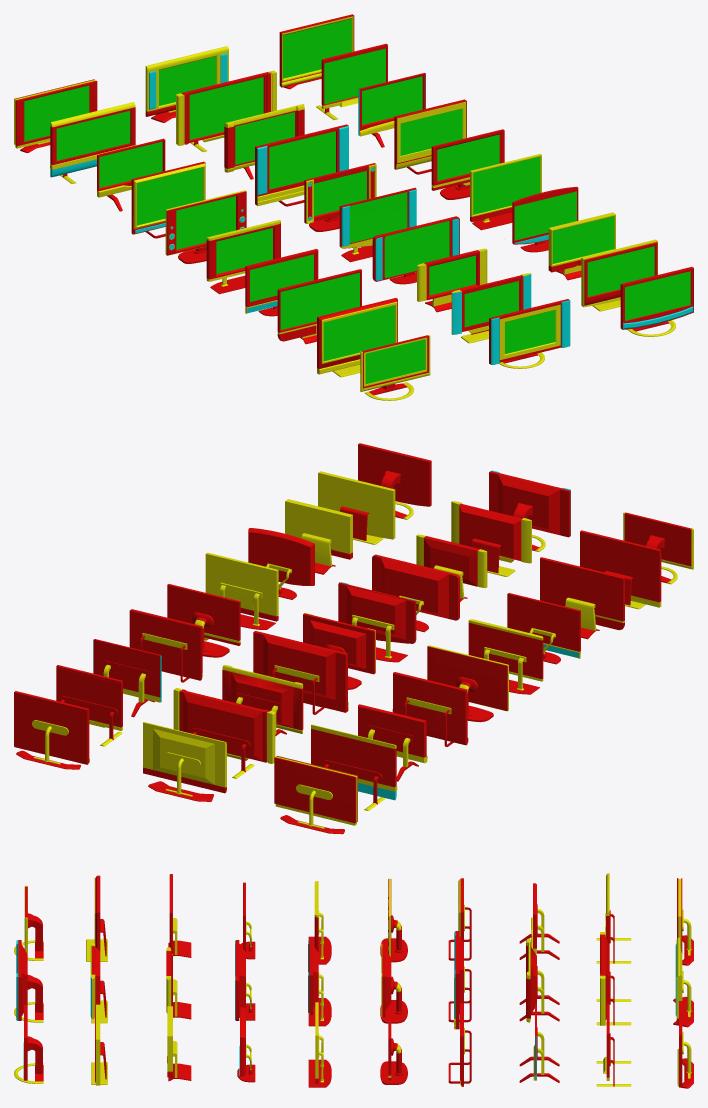
The model's file is televisions_grp.fbx.
The picture shows the model from 3 angles, top to bottom: view 1: azimuth 30°, elevation 25°; view 2: azimuth 150°, elevation 25°; view 3: azimuth 270°, elevation 25°; orthographic projection. The views are drawn at different scales.
Visible parts, largest first — view 1: television_17, television_19, television_9, television_2, television_11, television_3, television_14, television_30, television_21, television_7, television_20, television_6 (+18 smaller); view 2: television_17, television_19, television_20, television_10, television_30, television_3, television_2, television_14, television_9, television_7, television_11, television_27 (+35 smaller); view 3: television_17, television_11, television_19, television_18, television_14, television_stand_26, television_stand_25, television_12, television_15, television_16, television_stand_16, television_stand_6 (+28 smaller).
Part boxes in pixels (bbox=[...]): television_17: bbox=[255, 124, 348, 205]; television_19: bbox=[176, 70, 276, 145]; television_9: bbox=[50, 102, 135, 177]; television_2: bbox=[317, 298, 397, 374]; television_11: bbox=[489, 299, 570, 364]; television_3: bbox=[277, 269, 361, 341]; television_14: bbox=[372, 216, 459, 281]; television_30: bbox=[279, 14, 354, 87]; television_21: bbox=[620, 267, 693, 329]; television_7: bbox=[131, 161, 205, 234]; television_20: bbox=[145, 46, 228, 116]; television_6: bbox=[165, 190, 246, 255]; television_17: bbox=[253, 631, 348, 712]; television_19: bbox=[173, 688, 275, 763]; television_20: bbox=[143, 722, 226, 793]; television_10: bbox=[274, 756, 357, 825]; television_30: bbox=[14, 691, 89, 764]; television_3: bbox=[540, 557, 624, 630]; television_2: bbox=[580, 530, 661, 607]; television_14: bbox=[372, 554, 459, 620]; television_9: bbox=[311, 724, 397, 800]; television_7: bbox=[392, 672, 468, 745]; television_11: bbox=[489, 470, 570, 537]; television_27: bbox=[129, 609, 202, 680]; television_17: bbox=[454, 931, 463, 1029]; television_11: bbox=[16, 940, 27, 1020]; television_19: bbox=[600, 932, 609, 1025]; television_18: bbox=[526, 938, 536, 1022]; television_14: bbox=[235, 940, 245, 1020]; television_stand_26: bbox=[380, 1038, 407, 1084]; television_stand_25: bbox=[308, 1033, 331, 1087]; television_12: bbox=[90, 941, 100, 1019]; television_15: bbox=[308, 940, 318, 1014]; television_16: bbox=[381, 943, 391, 1017]; television_stand_16: bbox=[380, 976, 407, 1023]; television_stand_6: bbox=[380, 915, 407, 962].
Bounding box in the file's own units: 521 × 121 × 935.
